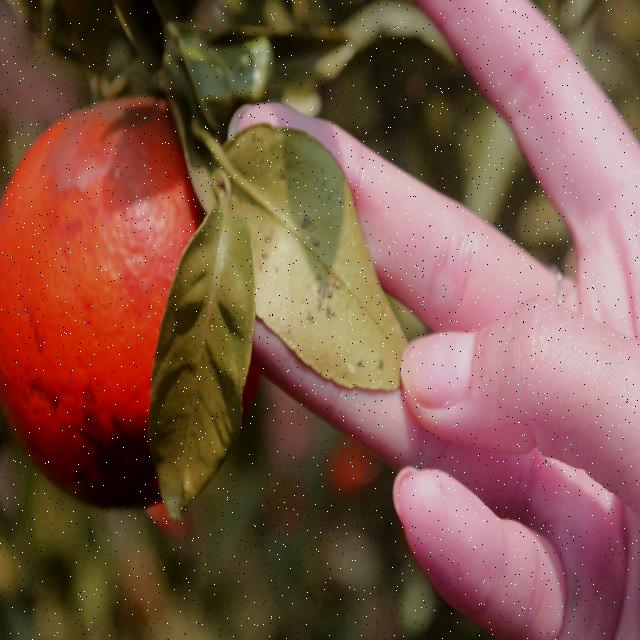melanose: (221, 136, 383, 383)
